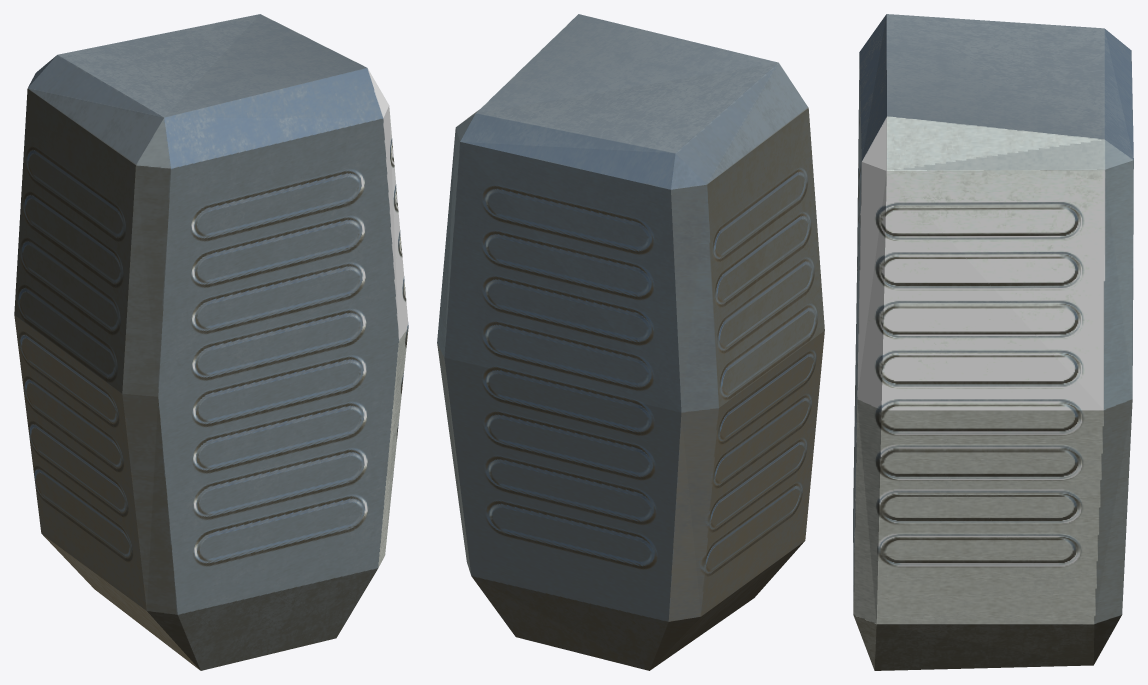
File: L_LEG1.obj
The picture shows the model from 3 angles, left to right: view 1: azimuth 30°, elevation 25°; view 2: azimuth 150°, elevation 25°; view 3: azimuth 270°, elevation 25°; orthographic projection. The views are drawn at different scales.
Parts seen in each view (by area): view 1: pasted__pCube11 group; view 2: pasted__pCube11 group; view 3: pasted__pCube11 group.
Part boxes in pixels (bbox=[...]): pasted__pCube11 group: bbox=[14, 14, 408, 670]; pasted__pCube11 group: bbox=[437, 14, 824, 670]; pasted__pCube11 group: bbox=[853, 14, 1133, 670].
Size of the model in its own units: 1 by 1.86 by 0.8272.
Materials: 1 (1 with a texture image).
